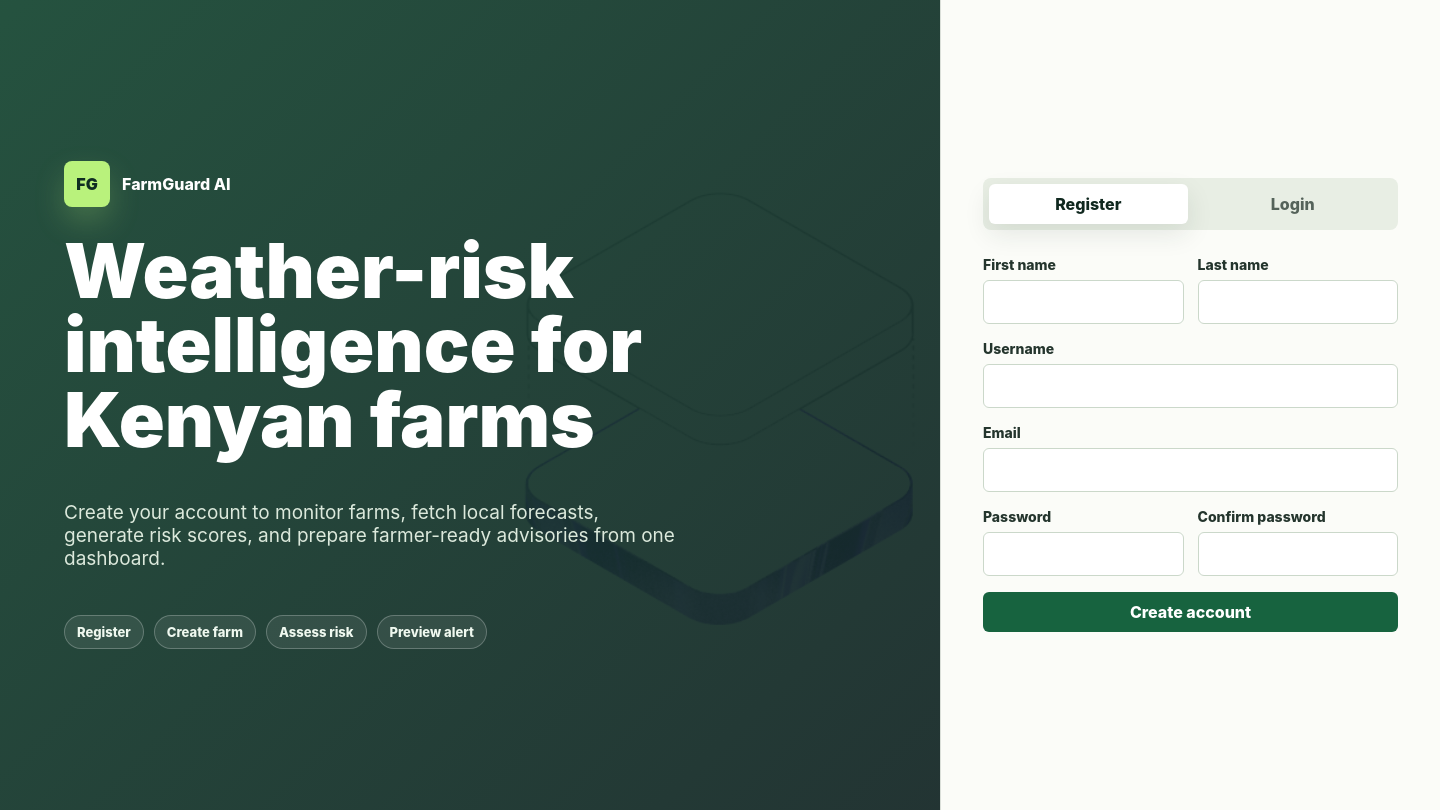
App authentication › registers a user, stores tokens, and loads the dashboard
In the field labelled "First name": (1083, 302) [983,280,1184,324], type "Paul"
In the field labelled "Last name": (1298, 302) [1198,280,1398,324], type "Ndambo"
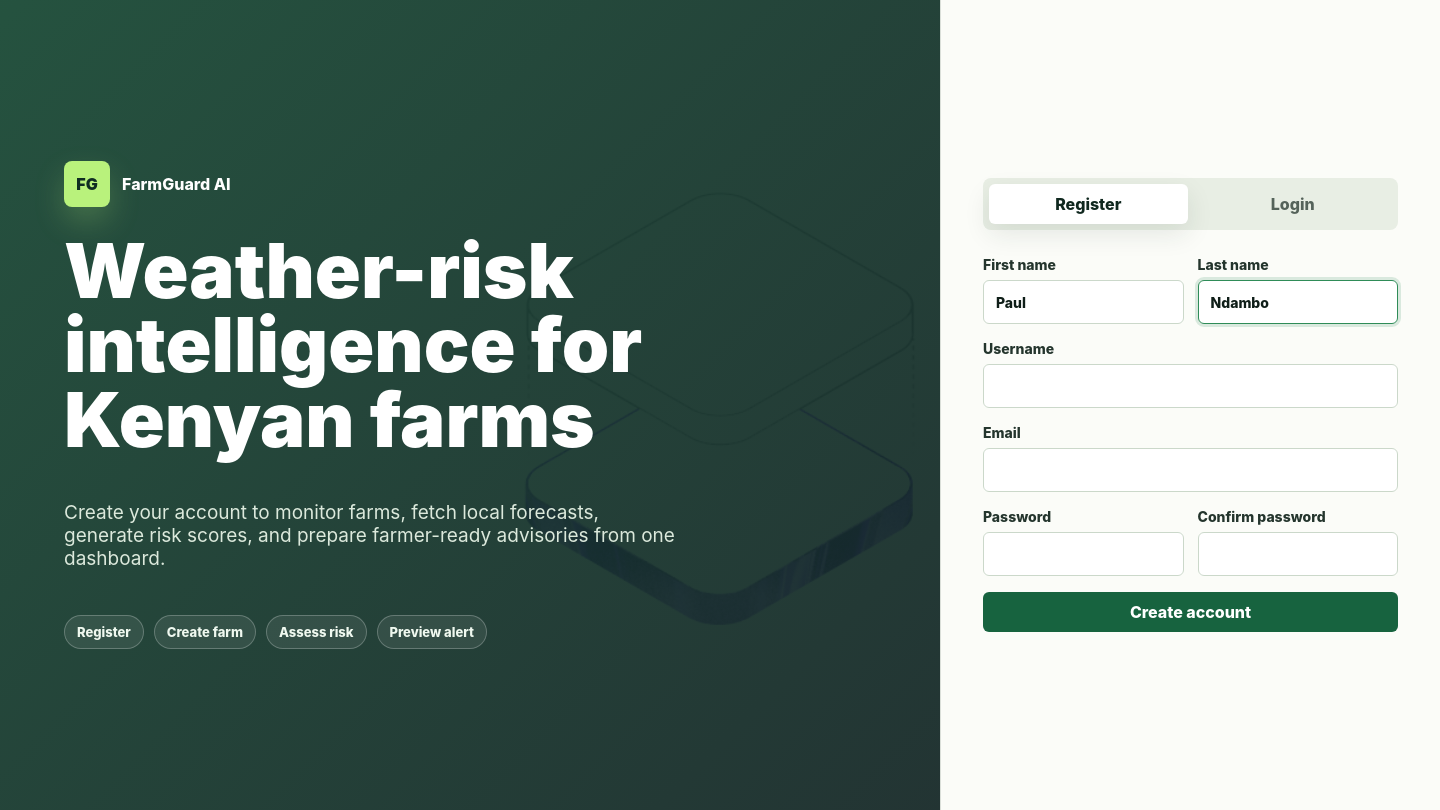
In the field labelled "Username": (1190, 386) [983,364,1398,408], type "paul"
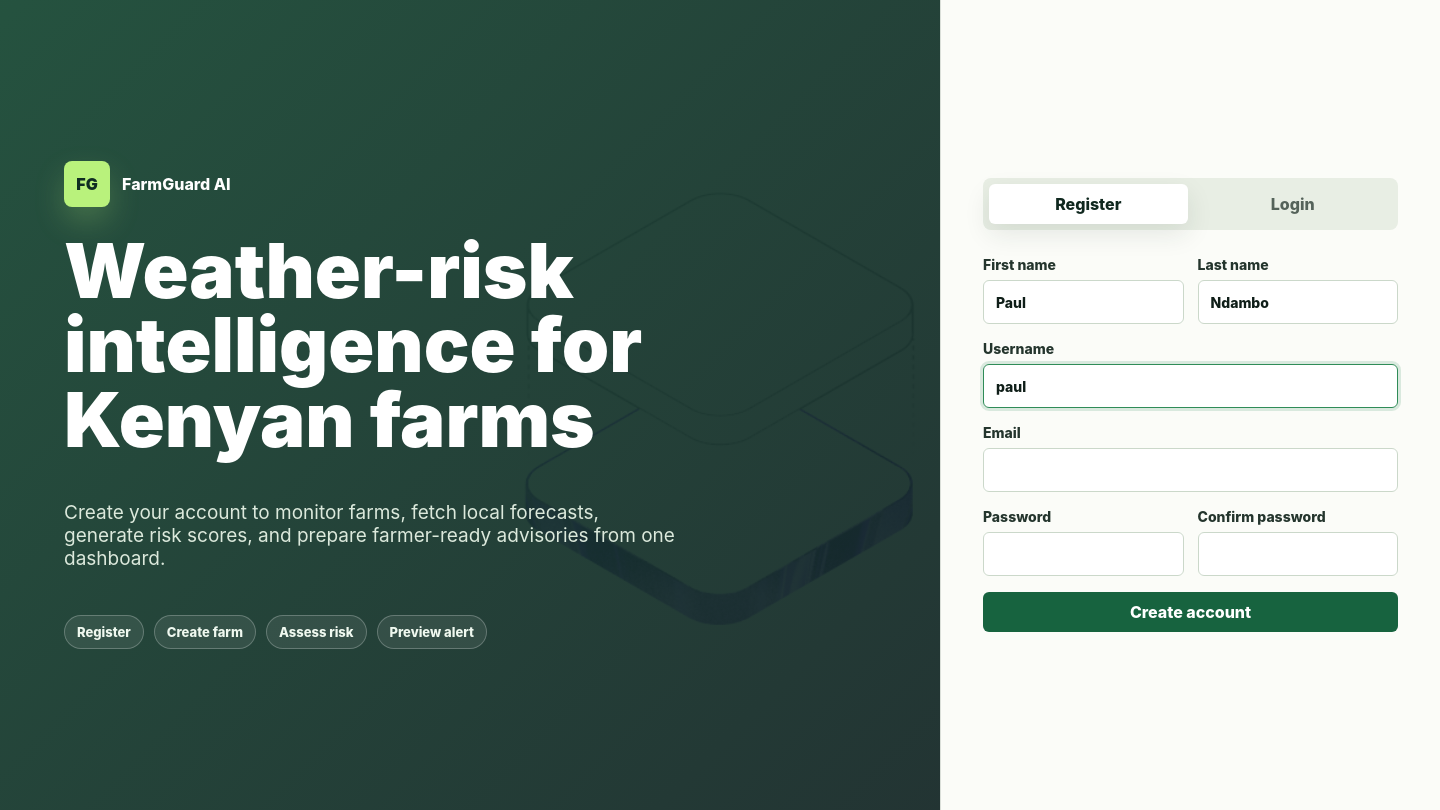
In the field labelled "Email": (1190, 470) [983,448,1398,492], type "paul@example.com"
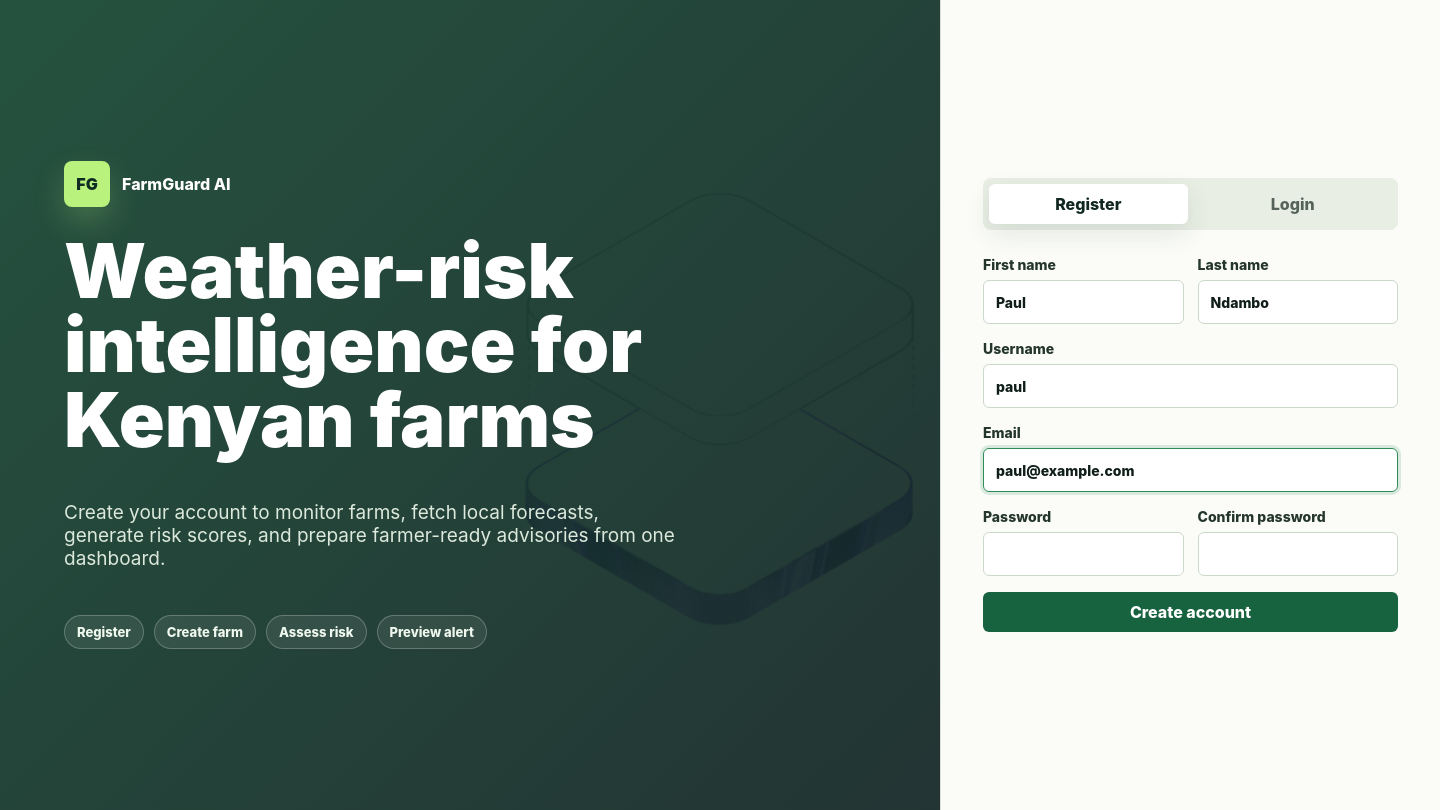
In the password field labelled "Password": (1083, 554) [983,532,1184,576], type "StrongPass123!"
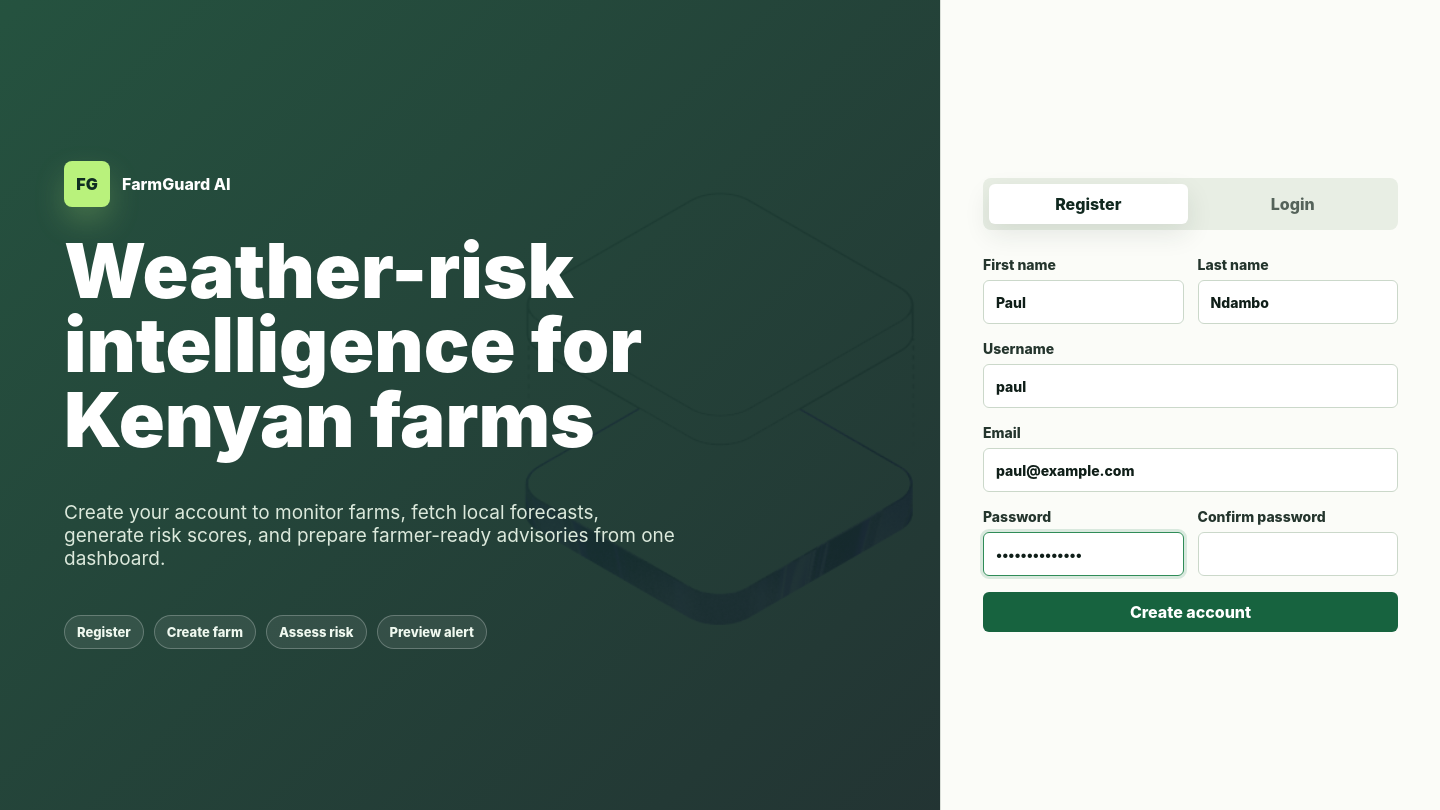
In the password field labelled "Confirm password": (1298, 554) [1198,532,1398,576], type "StrongPass123!"
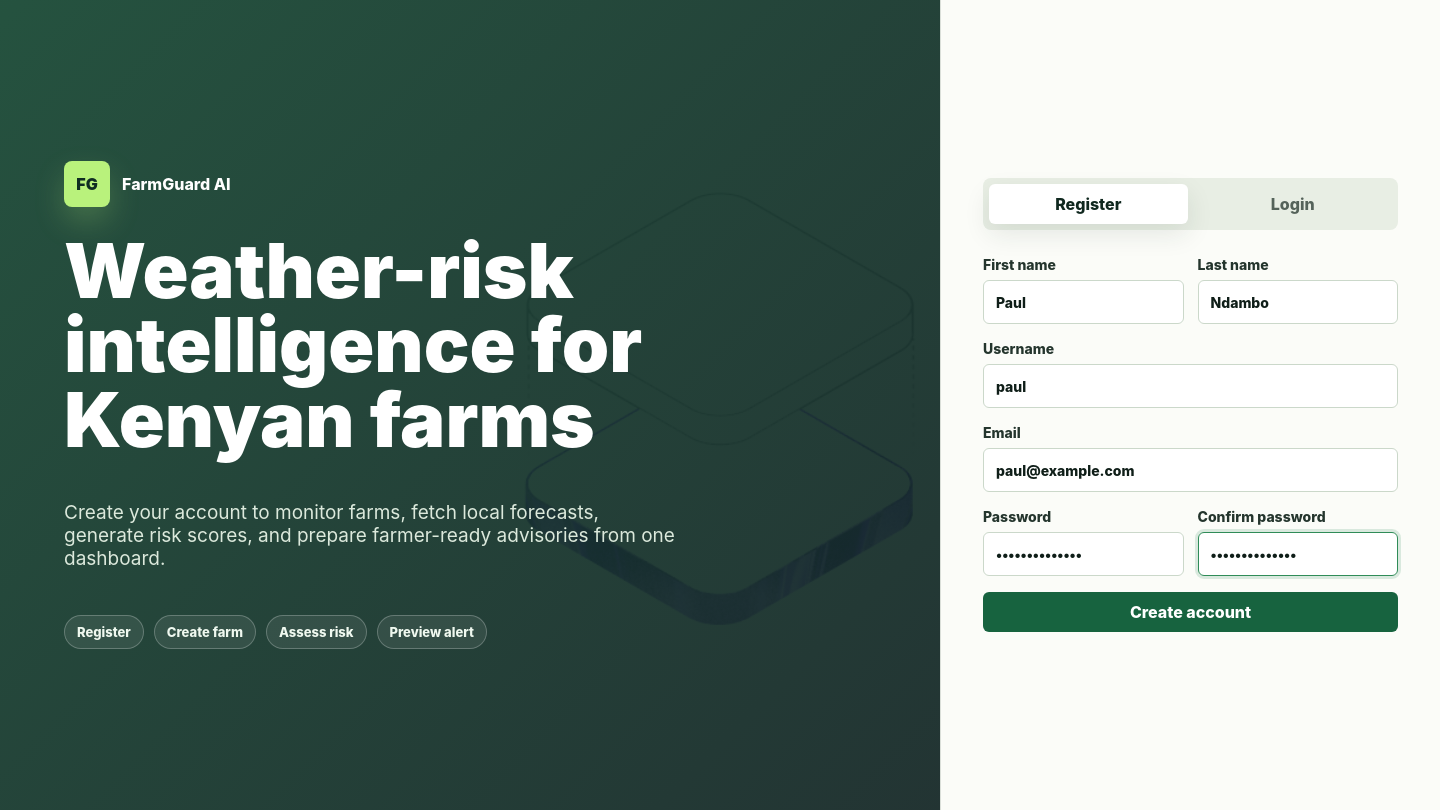
Click the button "Create account": (1190, 612) [983,592,1398,632]
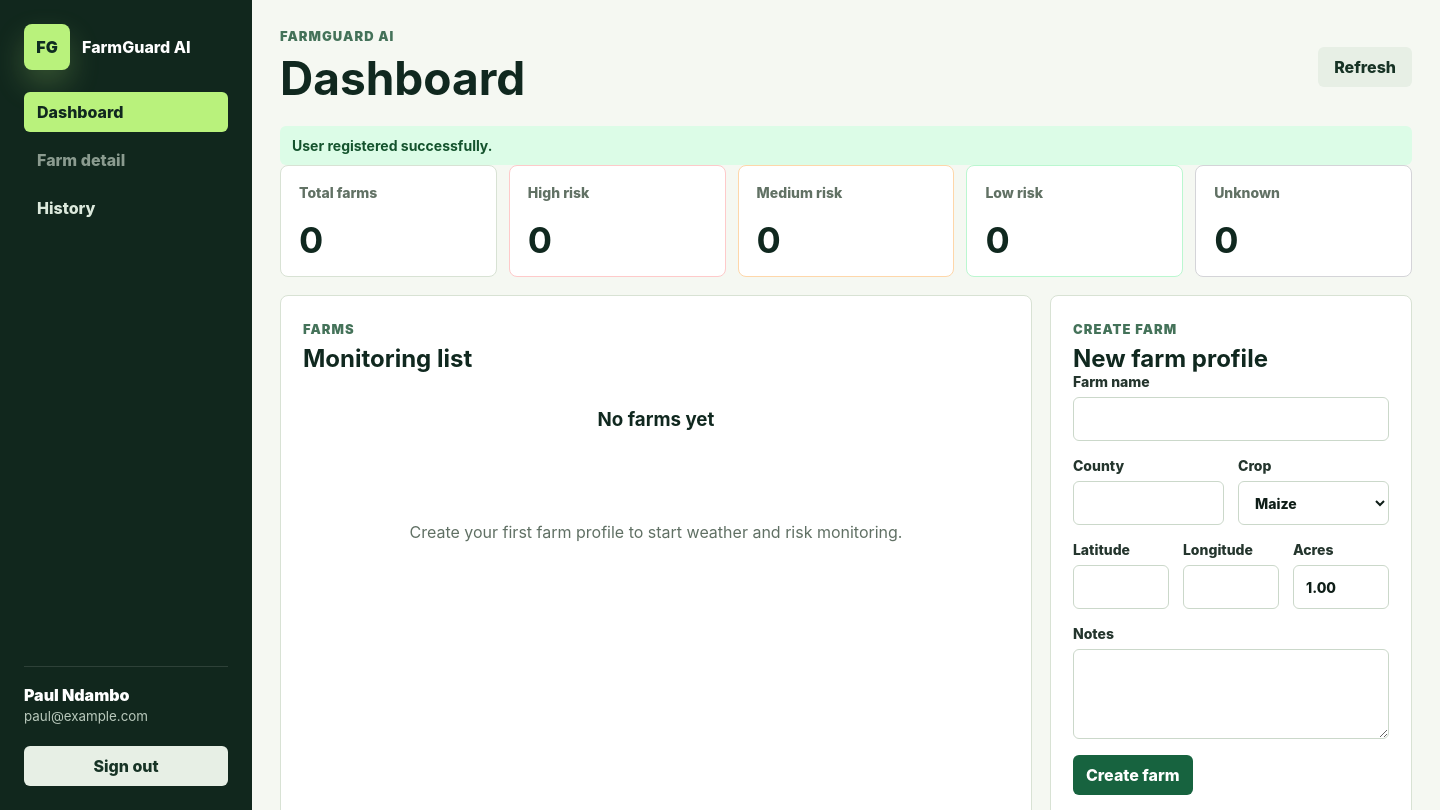
Expected: the heading "Dashboard" is shown, [280,50,525,106]
Expected: the text "User registered successfully." is shown, [280,126,1412,165]
